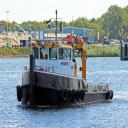tugboat: (16, 35, 115, 111)
